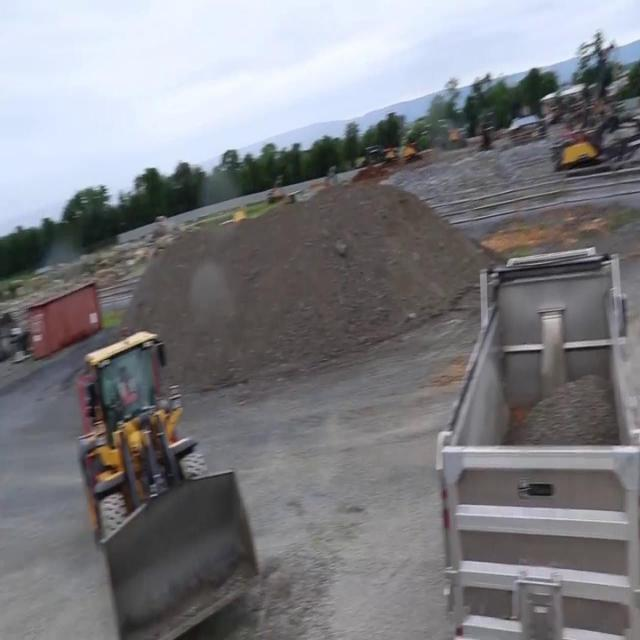Dump Truck: (434, 245, 639, 638)
Loader: (74, 325, 260, 639)
